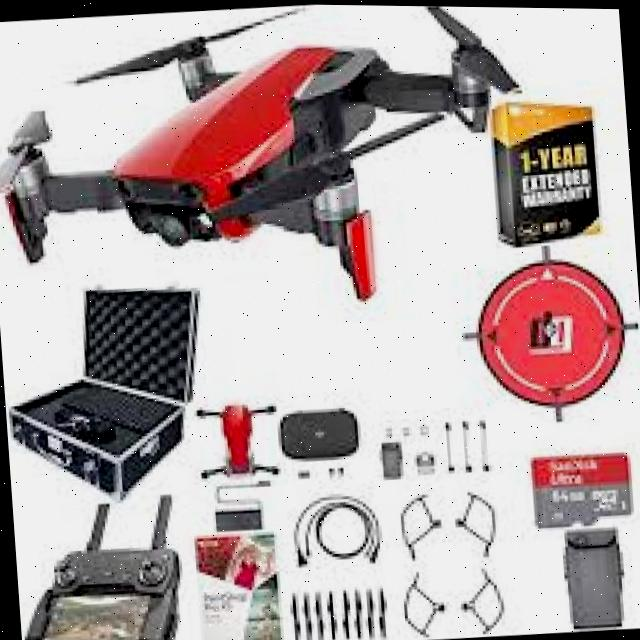drone: (0, 0, 533, 332)
